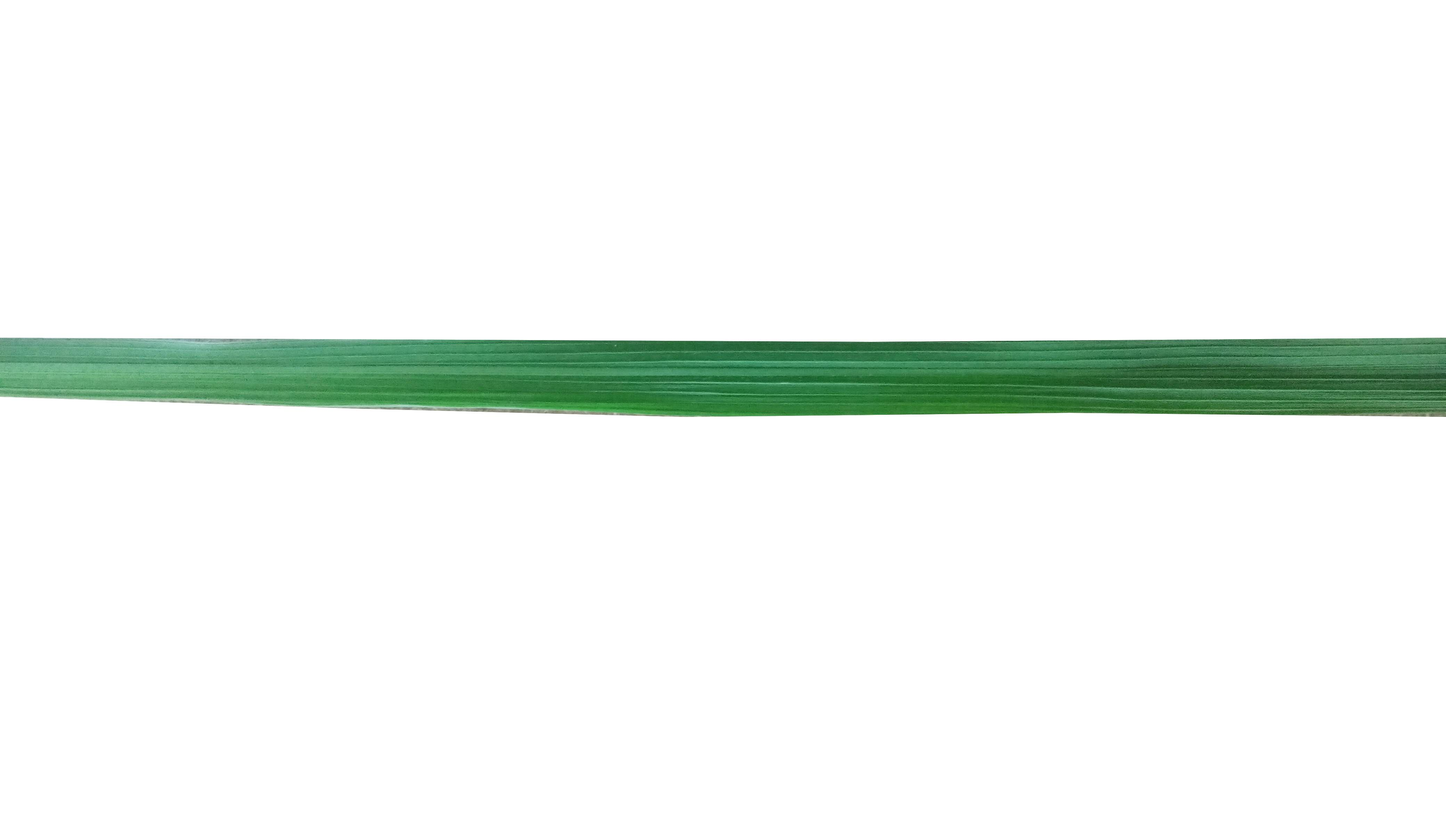Healthy: (8, 336, 1446, 416)
